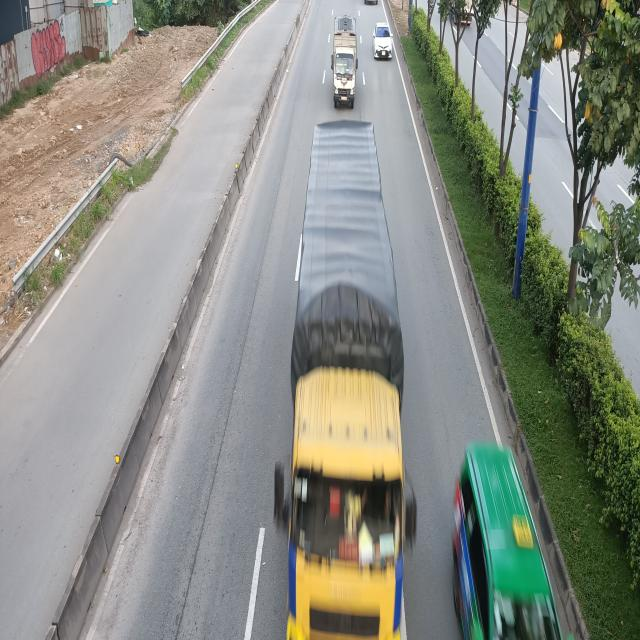car: (374, 22, 393, 60)
truck: (278, 124, 420, 640), (332, 20, 360, 104)
